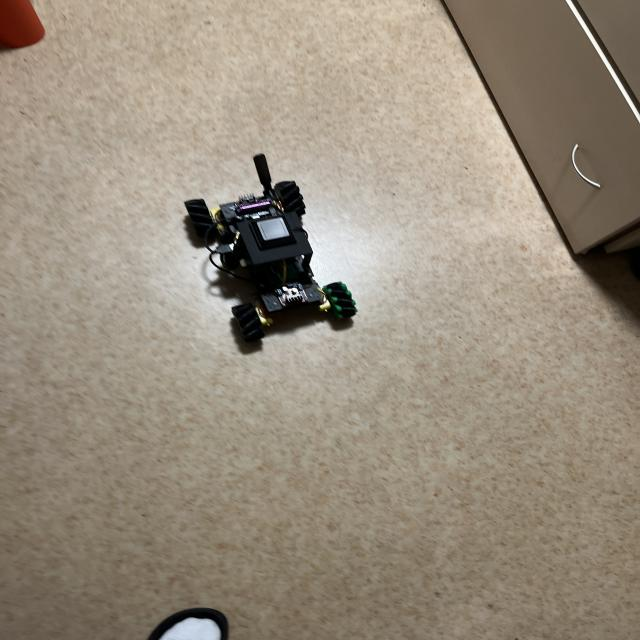robot: (185, 154, 357, 341)
